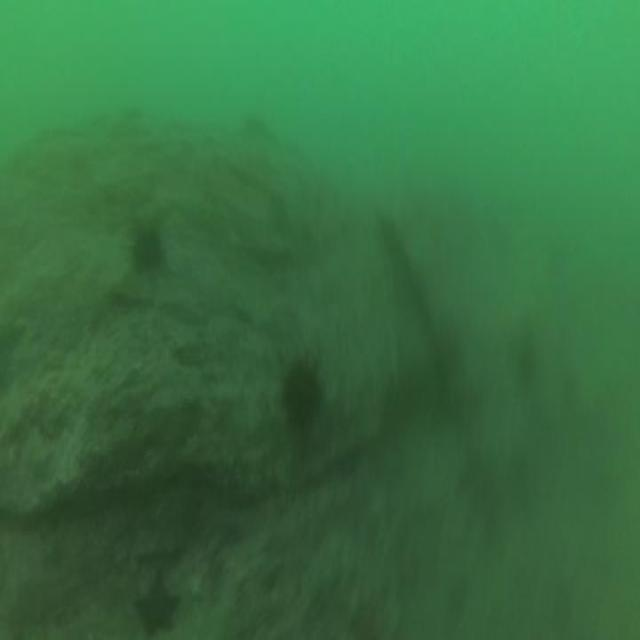echinus: (283, 362, 321, 427), (130, 228, 162, 267)
starfish: (132, 574, 182, 636)
